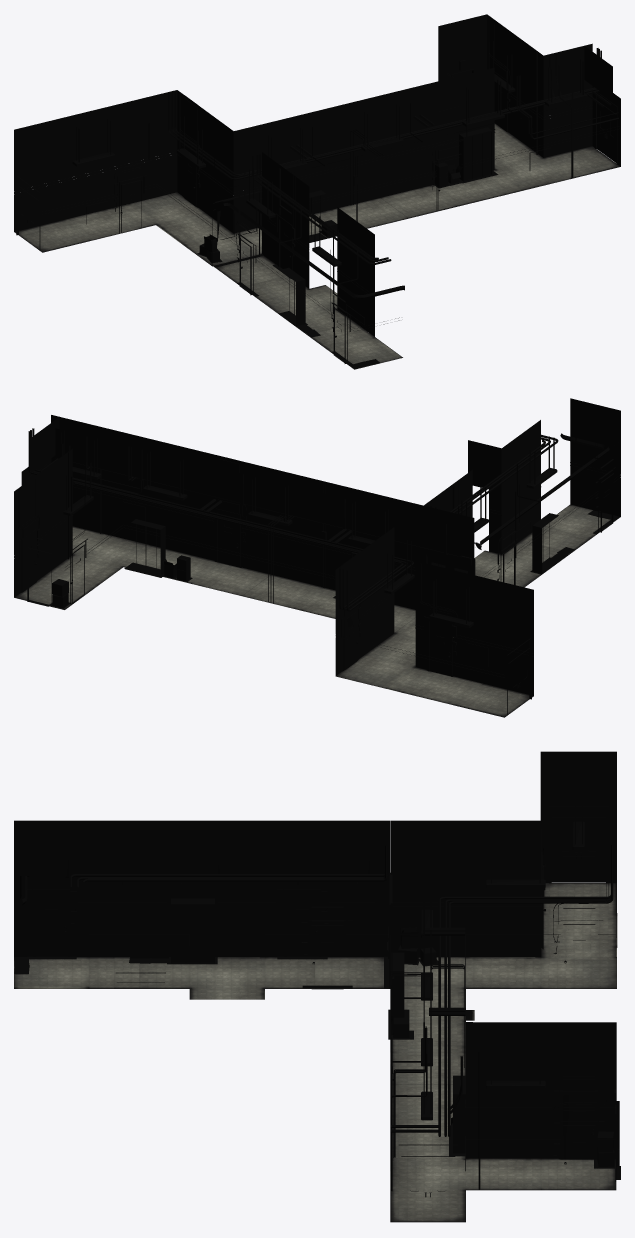
The model's file is horror_corridor_2.glb.
3 renders of one model, top to bottom at view 1: azimuth 30°, elevation 25°; view 2: azimuth 150°, elevation 25°; view 3: azimuth 270°, elevation 25°, orthographic. The views are drawn at different scales.
Visible parts, largest first — view 1: BackSide_0, FrontSide_2; view 2: BackSide_0, FrontSide_2; view 3: BackSide_0, FrontSide_2.
Part boxes in pixels (<box>): BackSide_0: <box>14,14,620,368</box>; FrontSide_2: <box>14,123,620,369</box>; BackSide_0: <box>14,398,620,715</box>; FrontSide_2: <box>14,504,620,717</box>; BackSide_0: <box>14,751,620,1197</box>; FrontSide_2: <box>14,883,617,1222</box>.
Bounding box in the file's own units: 30.95 × 5.84 × 23.21.
8 materials, 8 textured.
